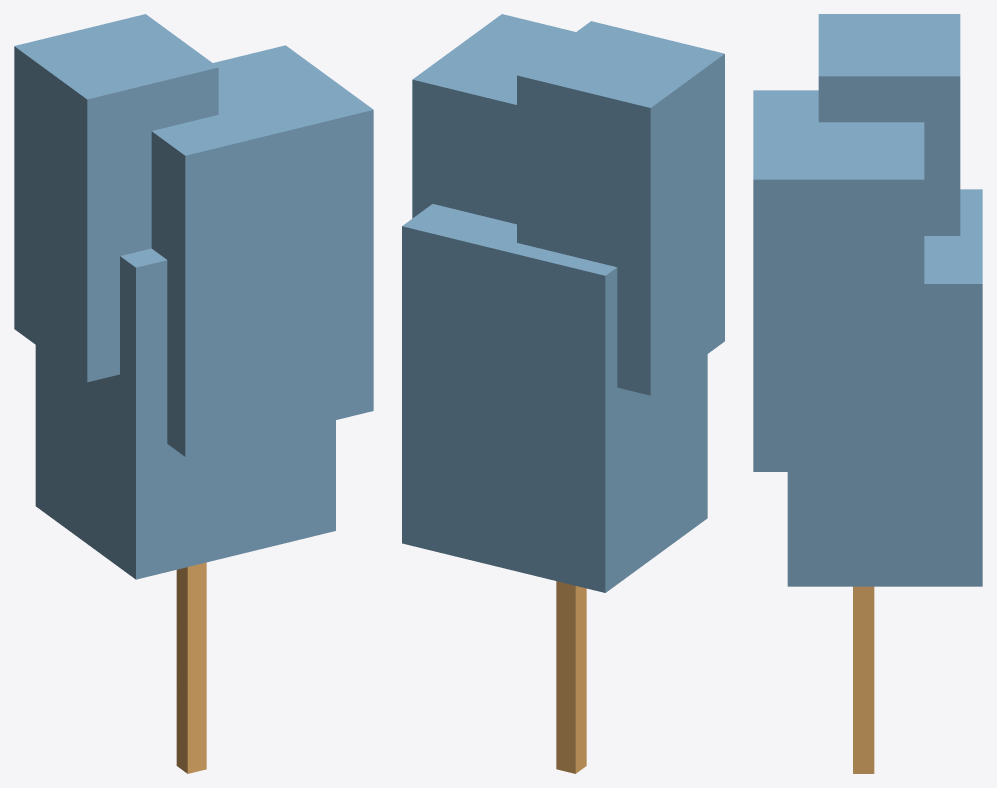
The model's file is CandylandCottonCandy_03.fbx.
3 renders of one model, left to right at view 1: azimuth 30°, elevation 25°; view 2: azimuth 150°, elevation 25°; view 3: azimuth 270°, elevation 25°, orthographic. The views are drawn at different scales.
Parts seen in each view (by area): view 1: CandylandCottonCandy_03; view 2: CandylandCottonCandy_03; view 3: CandylandCottonCandy_03.
Boxes of the visible parts, x1=… form: CandylandCottonCandy_03: x1=14, y1=14, x2=373, y2=773; CandylandCottonCandy_03: x1=402, y1=14, x2=724, y2=773; CandylandCottonCandy_03: x1=753, y1=14, x2=982, y2=773.
Bounding box in the file's own units: 0.6973 × 1.89 × 0.5646.
